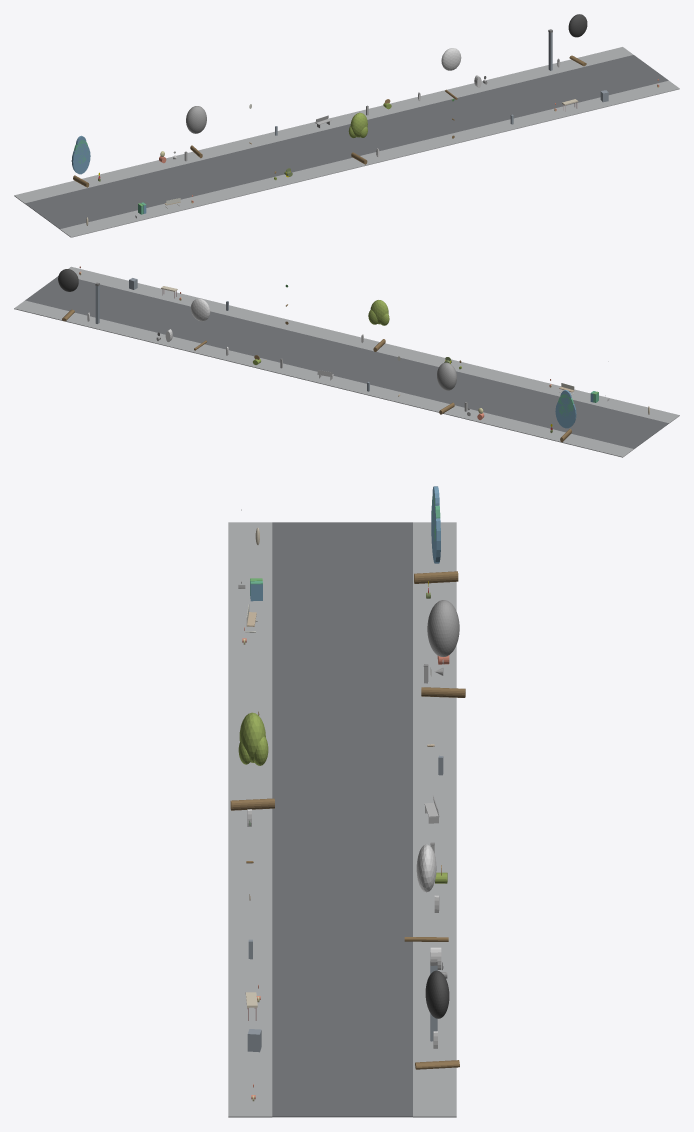
3 renders of one model, top to bottom at view 1: azimuth 30°, elevation 25°; view 2: azimuth 150°, elevation 25°; view 3: azimuth 270°, elevation 25°, orthographic. The views are drawn at different scales.
Parts seen in each view (by area): view 1: road_slab, sidewalk_left, sidewalk_right, inst_0012, inst_0013, inst_0014, inst_0016, inst_0015; view 2: road_slab, sidewalk_right, sidewalk_left, inst_0012, inst_0013, inst_0014, inst_0016, inst_0015; view 3: road_slab, sidewalk_left, sidewalk_right, inst_0013, inst_0014, inst_0016, inst_0012, inst_0015.
Part boxes in pixels (box(x1,y1,x2,y2)): road_slab: box(25, 55, 668, 229); sidewalk_left: box(60, 80, 679, 237); sidewalk_right: box(14, 47, 633, 203); inst_0012: box(71, 135, 90, 187); inst_0013: box(186, 106, 206, 158); inst_0014: box(348, 112, 367, 164); inst_0016: box(568, 14, 587, 66); inst_0015: box(441, 48, 461, 99); road_slab: box(25, 276, 668, 448); sidewalk_right: box(14, 300, 633, 457); sidewalk_left: box(68, 266, 679, 423); inst_0012: box(555, 390, 576, 442); inst_0013: box(437, 362, 456, 414); inst_0014: box(368, 300, 389, 351); inst_0016: box(58, 269, 78, 321); inst_0015: box(191, 298, 210, 350); road_slab: box(272, 522, 412, 1117); sidewalk_left: box(228, 522, 272, 1117); sidewalk_right: box(413, 522, 456, 1117); inst_0013: box(421, 600, 465, 697); inst_0014: box(230, 712, 274, 810); inst_0016: box(415, 970, 459, 1069); inst_0012: box(414, 486, 458, 583); inst_0015: box(404, 844, 448, 941).
Size of the model in its own units: 80 by 6.08 by 13.51.
